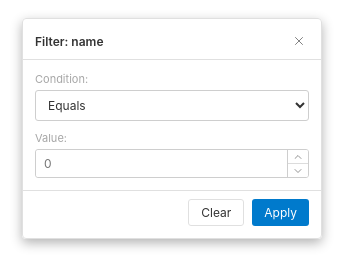
Test: FilterPopup › custom numeric input (number columns) › decrease chevron button decrements value
This screenshot has width=345, height=266.
Step 1. Select "Equals" in the dropdown → coordinates (172, 106), box [35,90,309,121]
Step 2. Type "10" into the field with placeholder "0" → coordinates (162, 164), box [36,150,287,177]
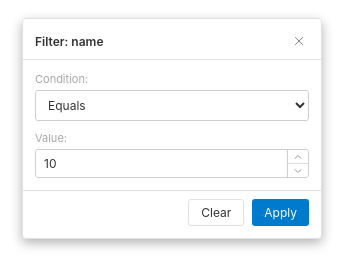
Step 3. Click the button named "Decrease" → coordinates (298, 170), box [288,163,308,177]
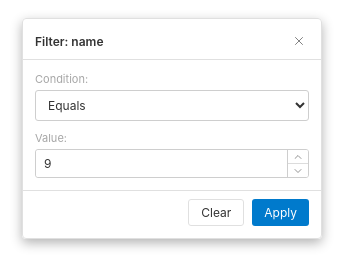
Expected: the field with placeholder "0" holds "9", [36,150,287,177]
